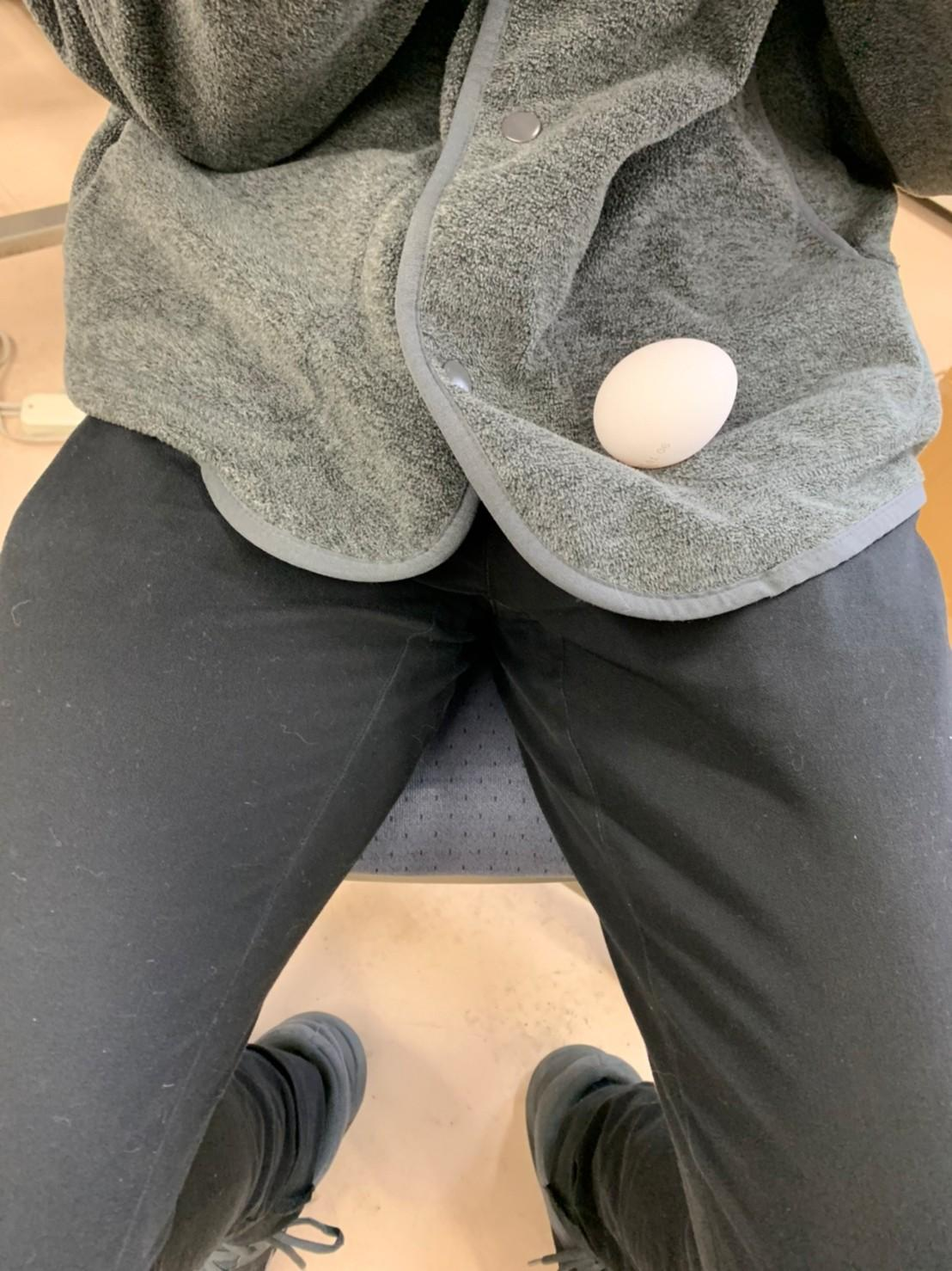egg: (586, 328, 736, 467)
